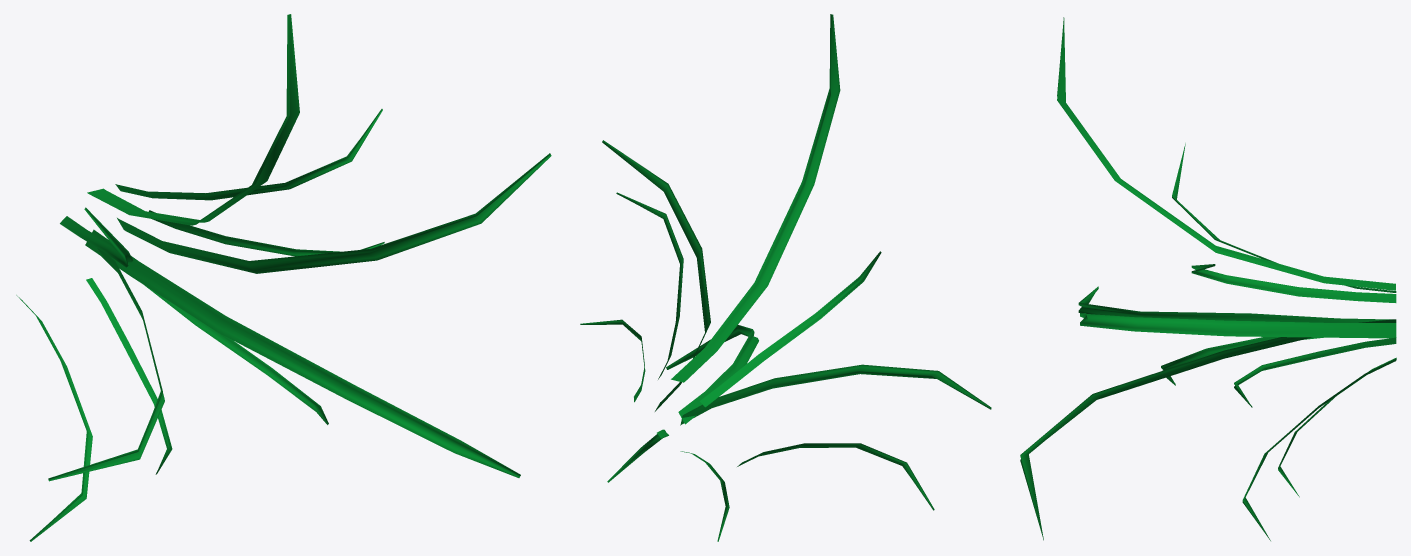
Rendered from grass1.glb.
3 views of the same model, side by side, from view 1: azimuth 30°, elevation 25°; view 2: azimuth 150°, elevation 25°; view 3: azimuth 270°, elevation 25° (orthographic). The views are drawn at different scales.
Parts seen in each view (by area): view 1: Grass 3; view 2: Grass 3; view 3: Grass 3.
Part boxes in pixels (x1,y1,x2,y2): Grass 3: [16, 14, 551, 541]; Grass 3: [580, 14, 991, 541]; Grass 3: [1020, 17, 1396, 540].
Bounding box in the file's own units: 0.1906 × 0.2064 × 0.1462.
